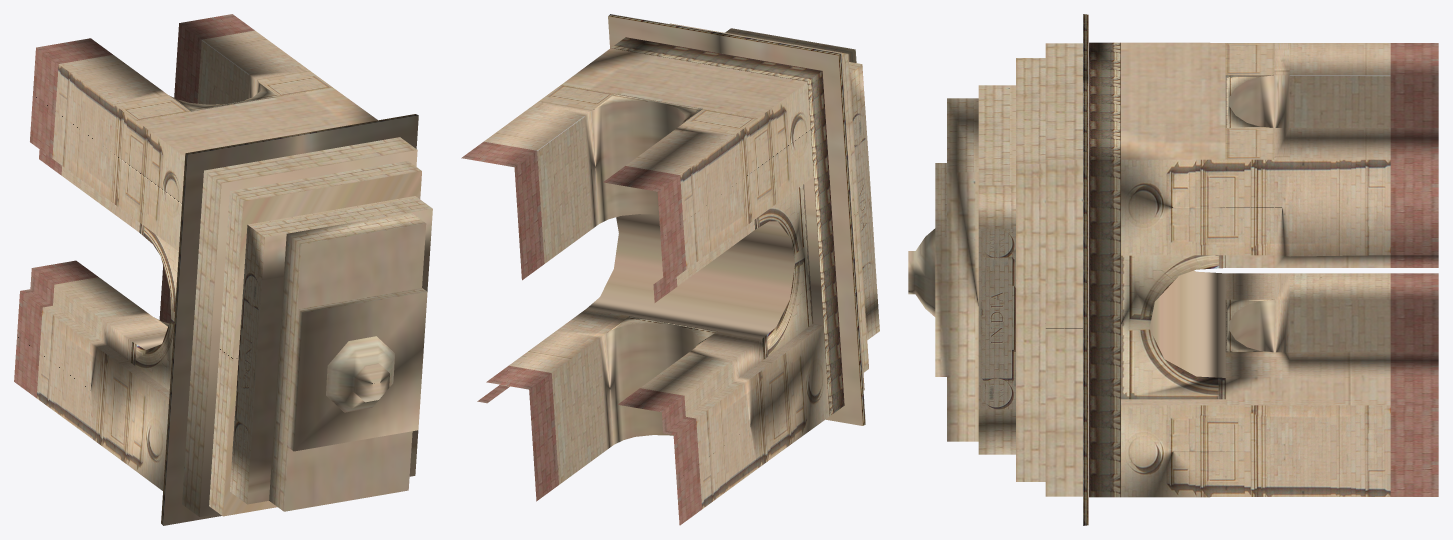
The model's file is DEL_ING_31.gltf.
3 views of the same model, side by side, from view 1: azimuth 30°, elevation 25°; view 2: azimuth 150°, elevation 25°; view 3: azimuth 270°, elevation 25° (orthographic). The views are drawn at different scales.
Parts seen in each view (by area): view 1: Object05; view 2: Object05; view 3: Object05.
Part boxes in pixels (x1,y1,x2,y2): Object05: [14, 14, 432, 525]; Object05: [461, 14, 879, 525]; Object05: [908, 14, 1438, 525].
Bounding box in the file's own units: 24.1 × 34.42 × 40.84.
1 material, 1 textured.
